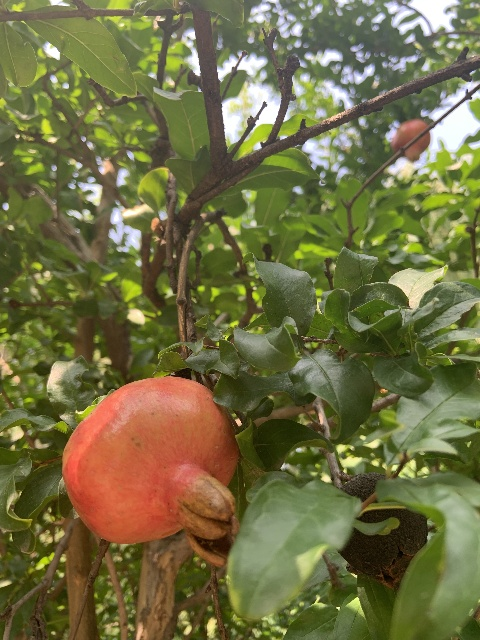ripe: (61, 375, 240, 566), (390, 120, 431, 162)
